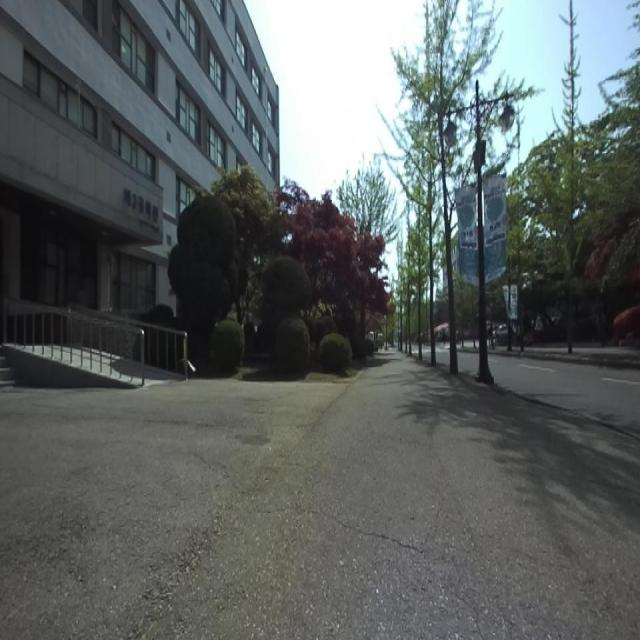sidewalk: (0, 350, 640, 639)
